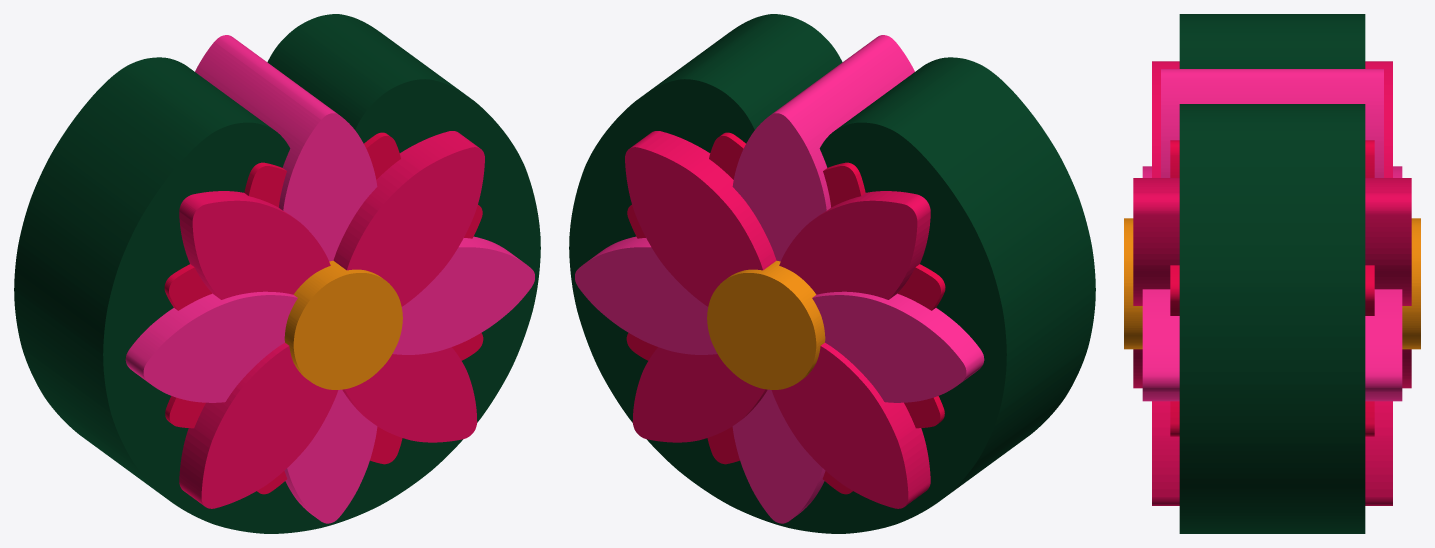
File: U+1FAB7.obj
3 renders of one model, left to right at view 1: azimuth 30°, elevation 25°; view 2: azimuth 150°, elevation 25°; view 3: azimuth 270°, elevation 25°, orthographic. The views are drawn at different scales.
Parts seen in each view (by area): view 1: U+1FAB7_layer00_obj00, U+1FAB7_layer05_obj00, U+1FAB7_layer02_obj00, U+1FAB7_layer04_obj00, U+1FAB7_layer03_obj00, U+1FAB7_layer06_obj00, U+1FAB7_layer01_obj00; view 2: U+1FAB7_layer00_obj00, U+1FAB7_layer05_obj00, U+1FAB7_layer02_obj00, U+1FAB7_layer04_obj00, U+1FAB7_layer03_obj00, U+1FAB7_layer06_obj00, U+1FAB7_layer01_obj00; view 3: U+1FAB7_layer00_obj00, U+1FAB7_layer05_obj00, U+1FAB7_layer02_obj00, U+1FAB7_layer04_obj00, U+1FAB7_layer03_obj00, U+1FAB7_layer06_obj00, U+1FAB7_layer01_obj00.
Boxes of the visible parts, x1,y1,x2,y2 form: U+1FAB7_layer00_obj00: (14, 14, 540, 533); U+1FAB7_layer05_obj00: (179, 131, 484, 508); U+1FAB7_layer02_obj00: (195, 35, 377, 523); U+1FAB7_layer04_obj00: (125, 236, 534, 402); U+1FAB7_layer03_obj00: (179, 191, 477, 442); U+1FAB7_layer06_obj00: (284, 260, 402, 389); U+1FAB7_layer01_obj00: (164, 132, 483, 494); U+1FAB7_layer00_obj00: (569, 14, 1095, 533); U+1FAB7_layer05_obj00: (625, 131, 930, 508); U+1FAB7_layer02_obj00: (732, 35, 914, 523); U+1FAB7_layer04_obj00: (575, 236, 984, 402); U+1FAB7_layer03_obj00: (632, 191, 930, 442); U+1FAB7_layer06_obj00: (707, 260, 825, 389); U+1FAB7_layer01_obj00: (626, 132, 945, 494); U+1FAB7_layer00_obj00: (1179, 14, 1365, 533); U+1FAB7_layer05_obj00: (1133, 178, 1411, 388); U+1FAB7_layer02_obj00: (1161, 69, 1383, 177); U+1FAB7_layer04_obj00: (1142, 166, 1402, 401); U+1FAB7_layer03_obj00: (1152, 61, 1392, 505); U+1FAB7_layer06_obj00: (1124, 218, 1420, 349); U+1FAB7_layer01_obj00: (1170, 140, 1374, 436).
Bounding box in the file's own units: 0.5678 × 0.5271 × 0.32.
